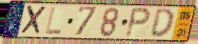7: (74, 6, 98, 38)
8: (99, 7, 120, 38)
D: (148, 8, 175, 40)
L: (44, 6, 63, 36)
P: (124, 6, 153, 40)
X: (19, 5, 48, 36)
